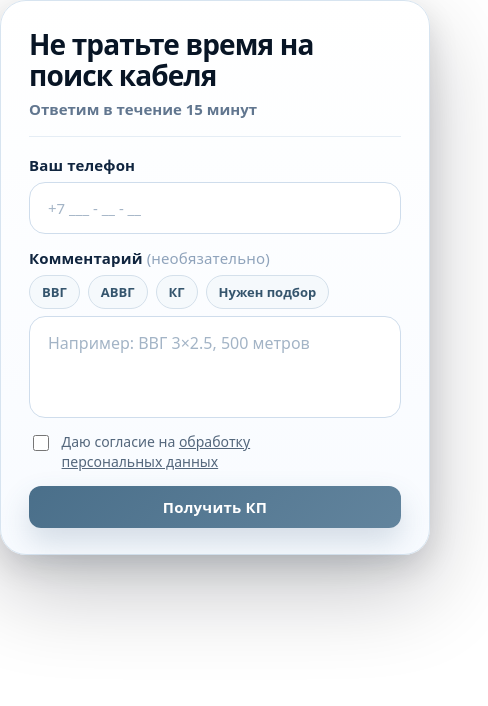
Test case: HeroLeadForm render flow › связывает ошибки телефона и согласия с полями формы
The image size is (488, 706).
Click the button "Получить КП" at (215, 507), box left=29, top=486, right=401, bottom=528
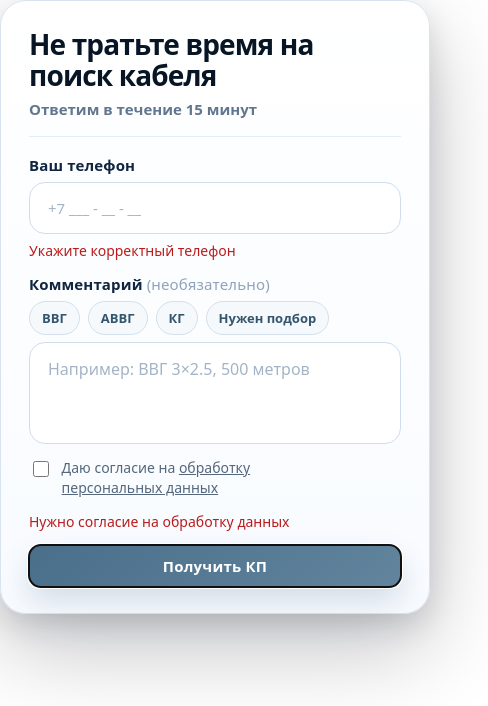
Now the checkbox labelled "Даю согласие на обработку персональных данных" is marked as invalid, box left=33, top=461, right=49, bottom=477
